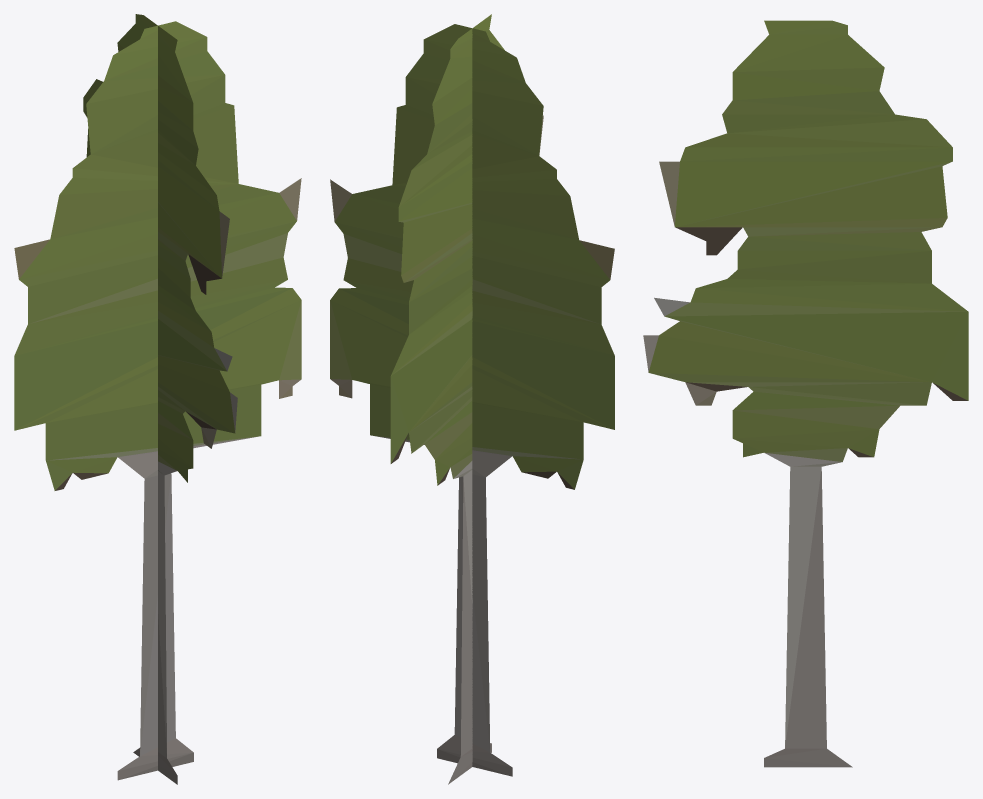
The model's file is bg_forest_birch_2_lod1.glb.
3 renders of one model, left to right at view 1: azimuth 30°, elevation 25°; view 2: azimuth 150°, elevation 25°; view 3: azimuth 270°, elevation 25°, orthographic.
Visible parts, largest first — view 1: body; view 2: body; view 3: body.
Part boxes in pixels (x1=…): body: x1=14, y1=14, x2=301, y2=784; body: x1=330, y1=14, x2=614, y2=784; body: x1=643, y1=20, x2=968, y2=767.
Size of the model in its own units: 2.21 by 5.47 by 2.16.
